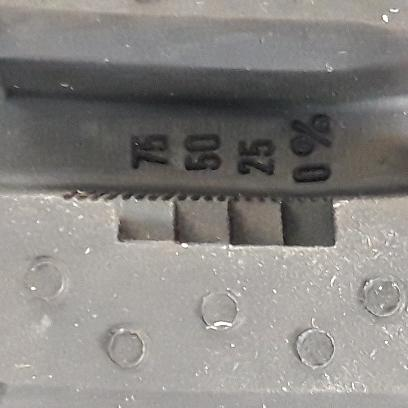temoin:100: (64, 186, 341, 252)
